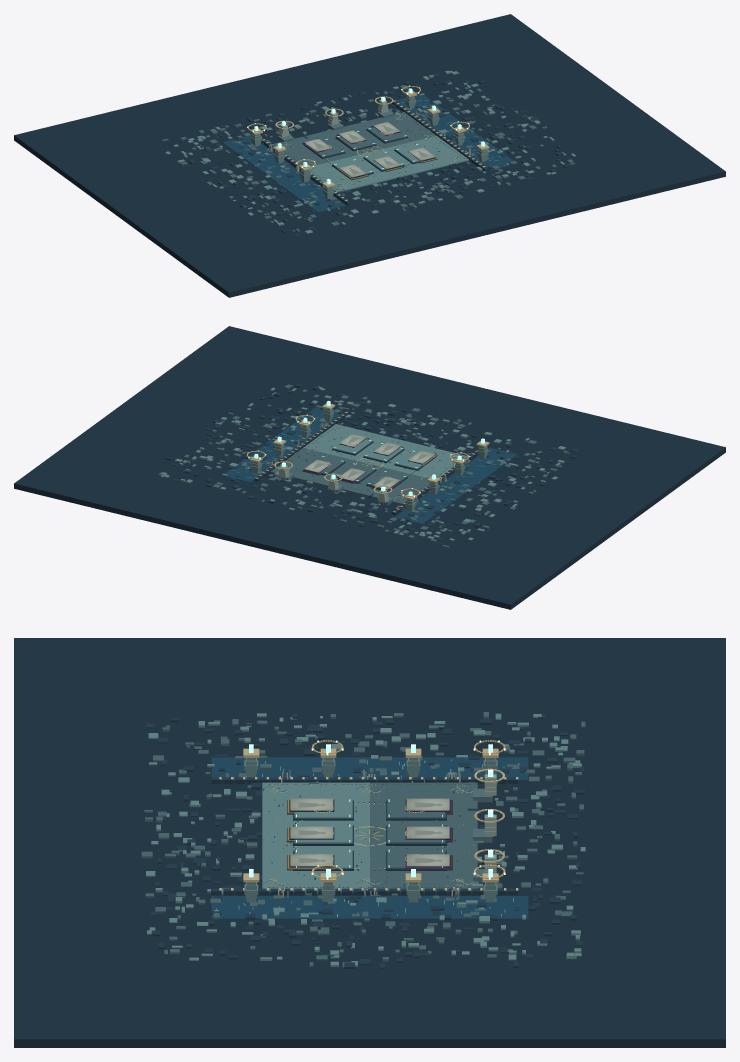
The model's file is tide.glb.
3 renders of one model, top to bottom at view 1: azimuth 30°, elevation 25°; view 2: azimuth 150°, elevation 25°; view 3: azimuth 270°, elevation 25°, orthographic. The views are drawn at different scales.
Parts seen in each view (by area): view 1: Bedrock, Outer_Rubble, Tidal_Channels, Friendly_Floor, Enemy_Floor, Six_Grounded_Foundations, Tide_Columns, Border_Coping; view 2: Bedrock, Outer_Rubble, Tidal_Channels, Friendly_Floor, Enemy_Floor, Six_Grounded_Foundations, Tide_Columns, Border_Coping; view 3: Bedrock, Outer_Rubble, Tidal_Channels, Friendly_Floor, Enemy_Floor, Six_Grounded_Foundations, Border_Coping, Tide_Columns, Column_Capitals, Orrery_Piers.
Part boxes in pixels (<box>): Bedrock: <box>14,14,725,297</box>; Outer_Rubble: <box>161,70,575,237</box>; Tidal_Channels: <box>222,94,517,212</box>; Friendly_Floor: <box>309,136,469,192</box>; Enemy_Floor: <box>272,112,436,166</box>; Six_Grounded_Foundations: <box>304,127,422,179</box>; Tide_Columns: <box>250,96,488,199</box>; Border_Coping: <box>262,101,488,205</box>; Bedrock: <box>14,326,725,609</box>; Outer_Rubble: <box>158,384,578,547</box>; Tidal_Channels: <box>222,407,517,524</box>; Friendly_Floor: <box>303,424,467,478</box>; Enemy_Floor: <box>271,448,430,504</box>; Six_Grounded_Foundations: <box>317,439,435,491</box>; Tide_Columns: <box>250,408,488,511</box>; Border_Coping: <box>254,410,488,514</box>; Bedrock: <box>14,638,725,1047</box>; Outer_Rubble: <box>141,712,585,968</box>; Tidal_Channels: <box>211,757,528,919</box>; Friendly_Floor: <box>262,782,369,892</box>; Enemy_Floor: <box>370,782,477,892</box>; Six_Grounded_Foundations: <box>293,799,446,870</box>; Border_Coping: <box>211,777,518,895</box>; Tide_Columns: <box>244,758,497,902</box>; Column_Capitals: <box>243,748,498,882</box>; Orrery_Piers: <box>484,774,496,873</box>.
Size of the model in its own units: 48 by 2.21 by 36.
40 materials, 1 textured.
